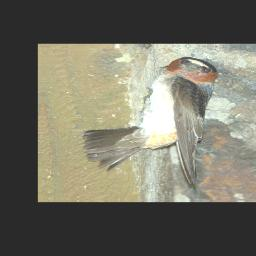Swallow: (80, 55, 220, 193)
